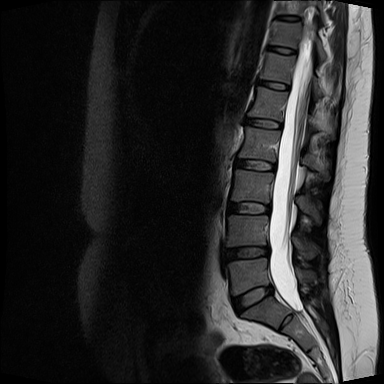Lumbar Disc Bulge (LDB): (227, 279, 279, 320), (222, 245, 270, 262)
Normal IVD: (224, 196, 276, 219), (232, 153, 280, 173), (241, 113, 285, 133), (253, 74, 293, 94), (260, 42, 300, 58), (271, 10, 305, 25)
Spinal Stenosis (SS): (263, 240, 275, 261), (268, 280, 278, 300)
